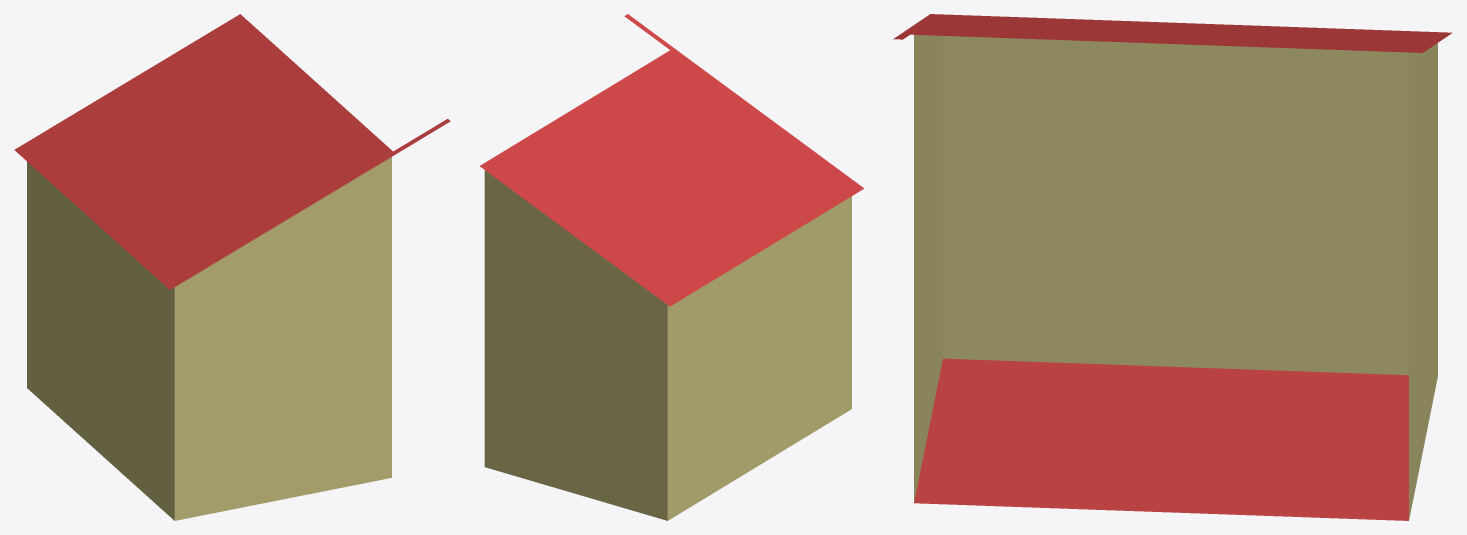
The picture shows the model from 3 angles, left to right: view 1: azimuth 30°, elevation 25°; view 2: azimuth 150°, elevation 25°; view 3: azimuth 270°, elevation 25°; orthographic projection. The views are drawn at different scales.
Size of the model in its own units: 7.97 by 10.07 by 9.92.
